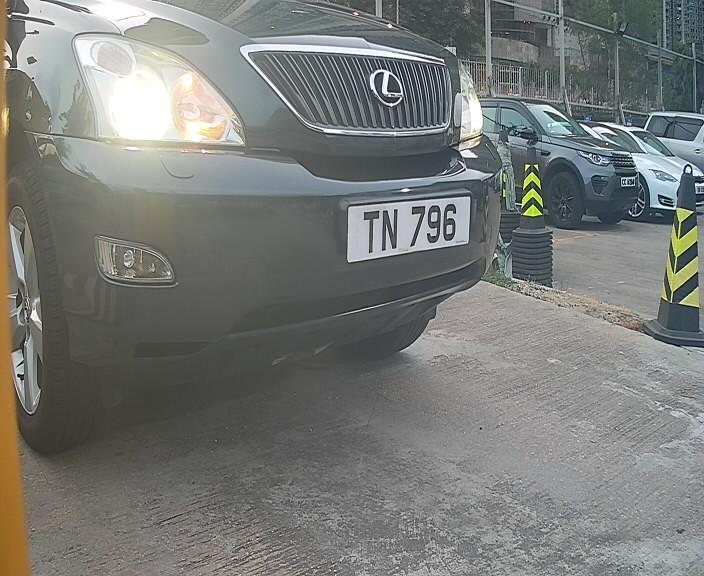privatecar: (2, 2, 535, 443)
